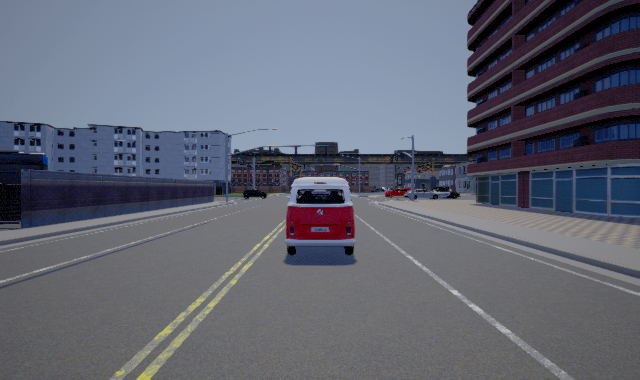vehicle: (285, 177, 356, 255), (414, 186, 449, 199), (384, 187, 411, 197), (242, 188, 268, 198)
